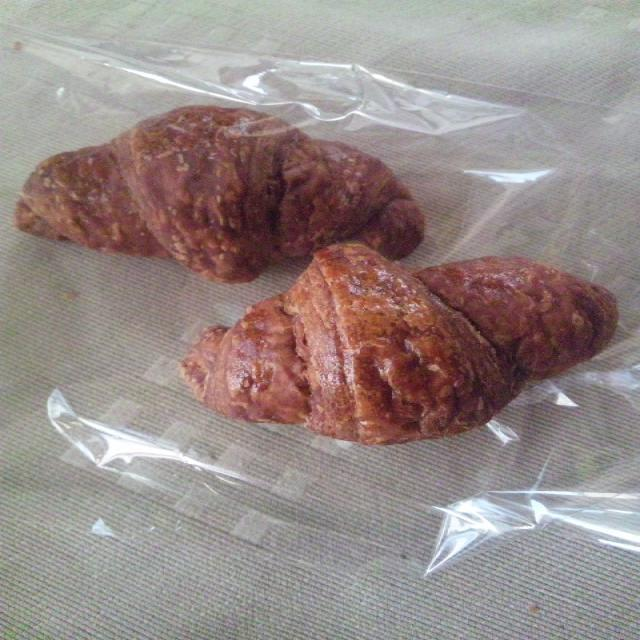Croissant: (158, 244, 626, 442), (7, 97, 429, 283)
